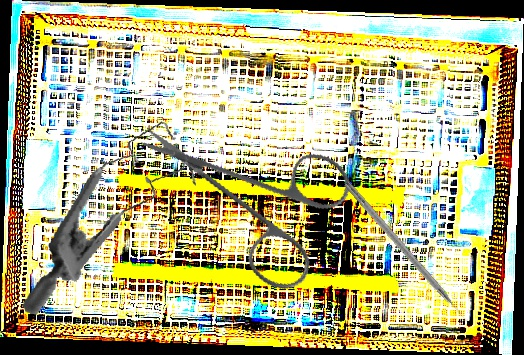Hook Surgical: (342, 180, 473, 328)
Iris Scissors: (137, 78, 374, 318)
Speculum: (21, 102, 206, 338)
